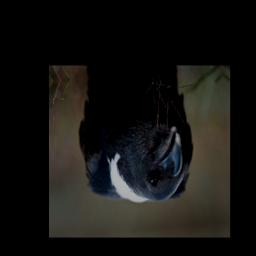Crow: (77, 72, 196, 210)
